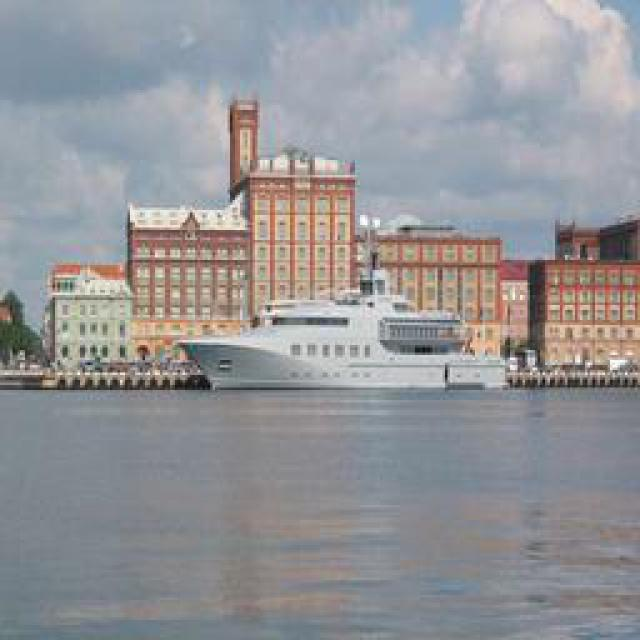Ship: (177, 271, 545, 394)
